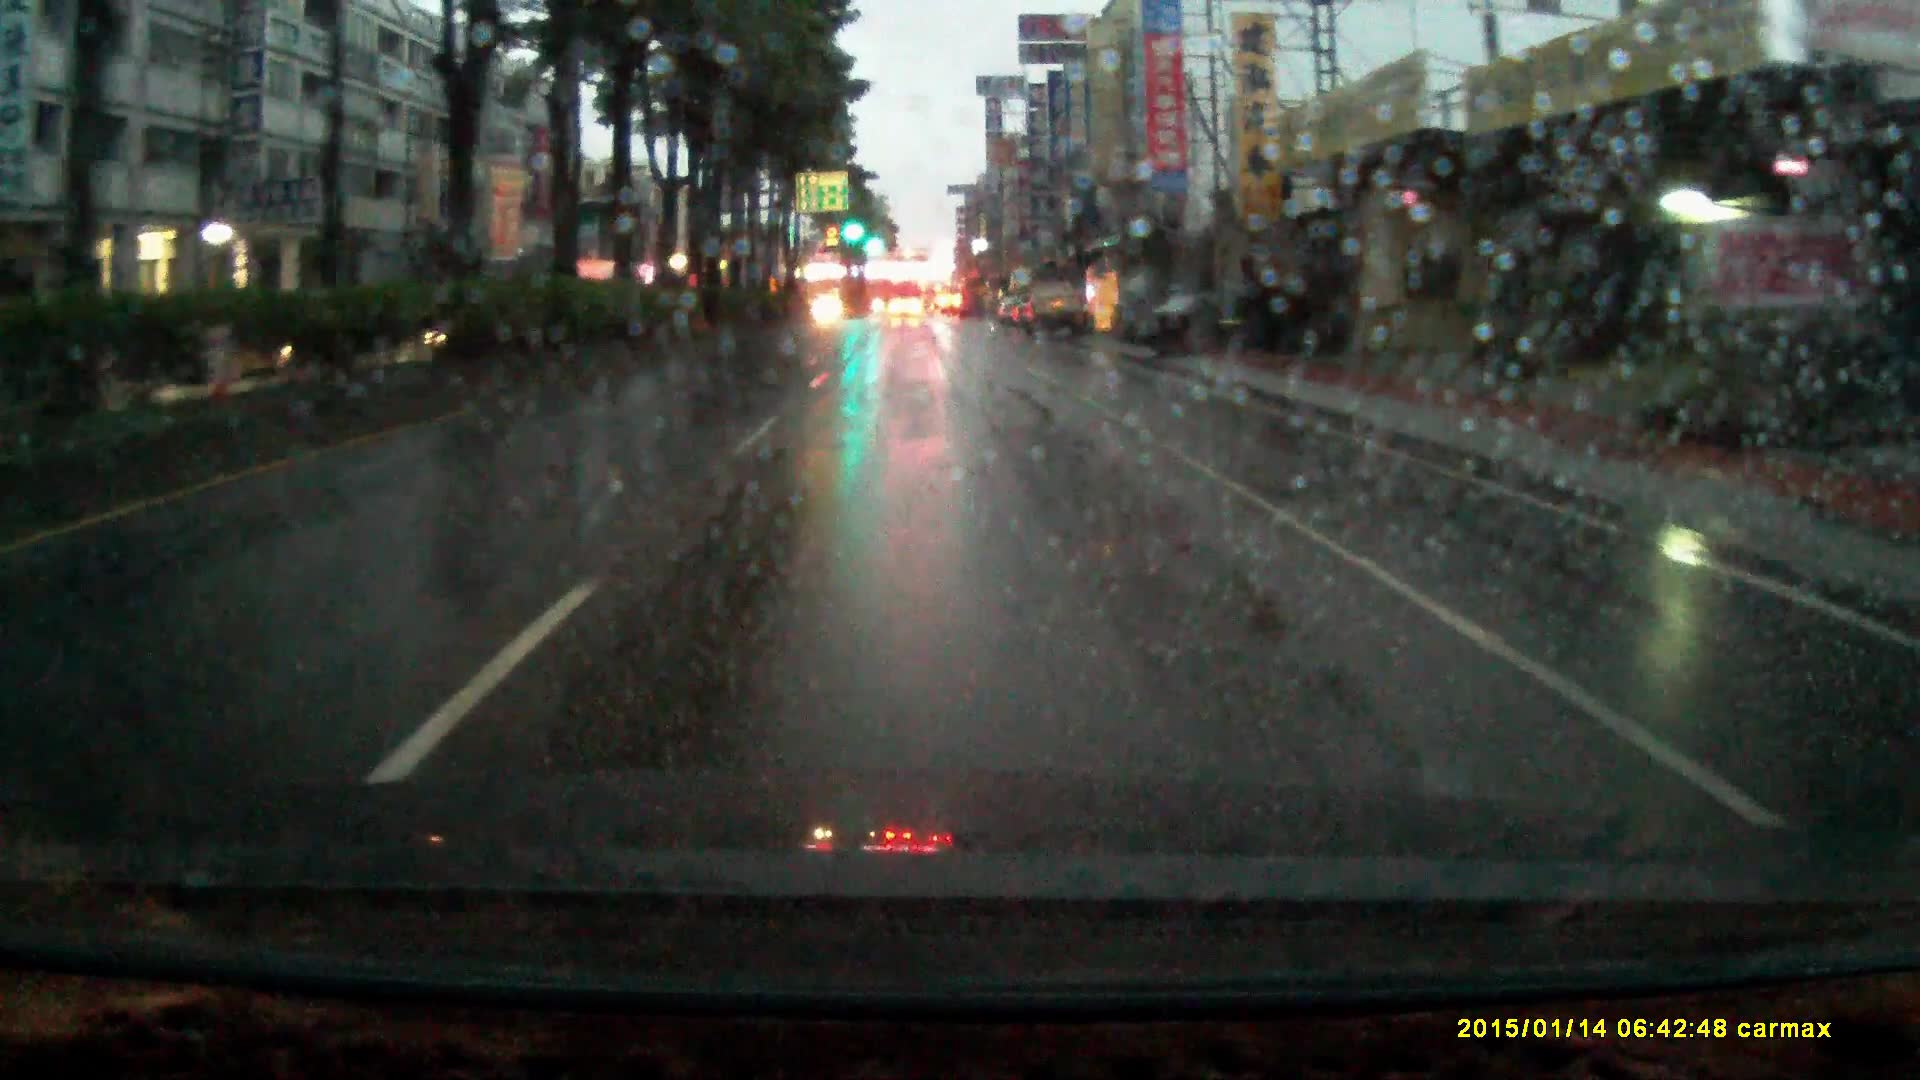vehicle: (1124, 294, 1352, 357), (1025, 285, 1091, 335), (886, 297, 927, 322)
